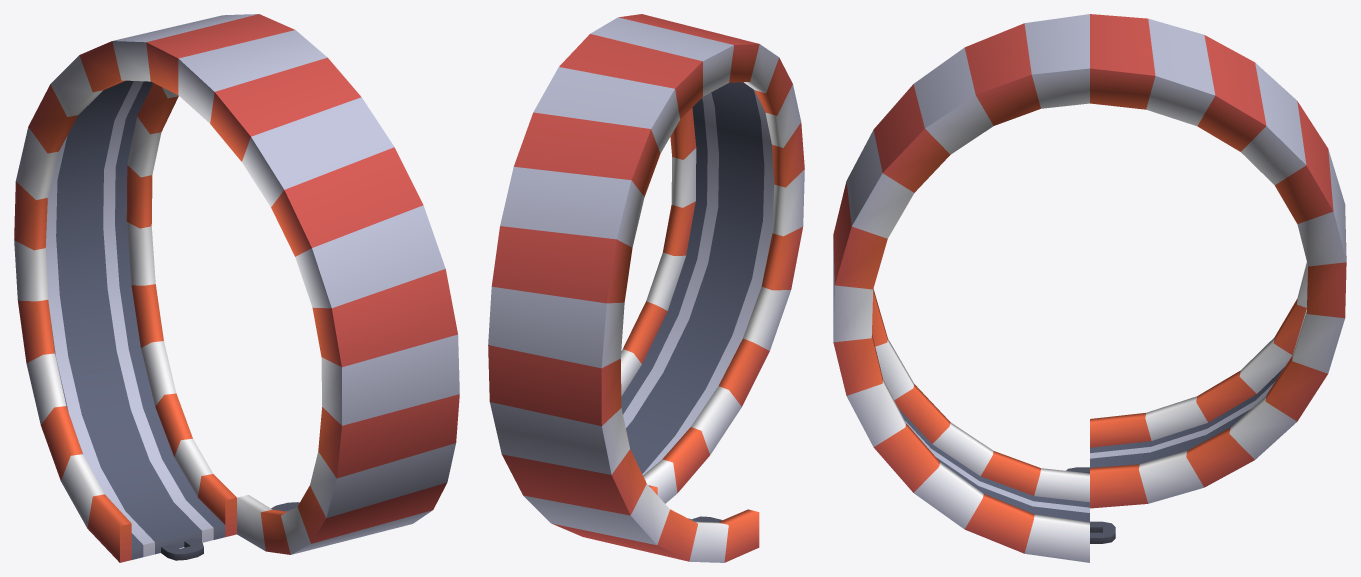
Rendered from track-road-narrow-looping.glb.
The picture shows the model from 3 angles, left to right: view 1: azimuth 30°, elevation 25°; view 2: azimuth 150°, elevation 25°; view 3: azimuth 270°, elevation 25°; orthographic projection. The views are drawn at different scales.
Visible parts, largest first — view 1: track-road-narrow-looping; view 2: track-road-narrow-looping; view 3: track-road-narrow-looping.
Boxes of the visible parts, x1,y1,x2,y2 form: track-road-narrow-looping: (14, 14, 459, 562); track-road-narrow-looping: (488, 14, 804, 562); track-road-narrow-looping: (833, 14, 1346, 562).
Size of the model in its own units: 2 by 4 by 3.98.
Materials: 1 (1 with a texture image).
